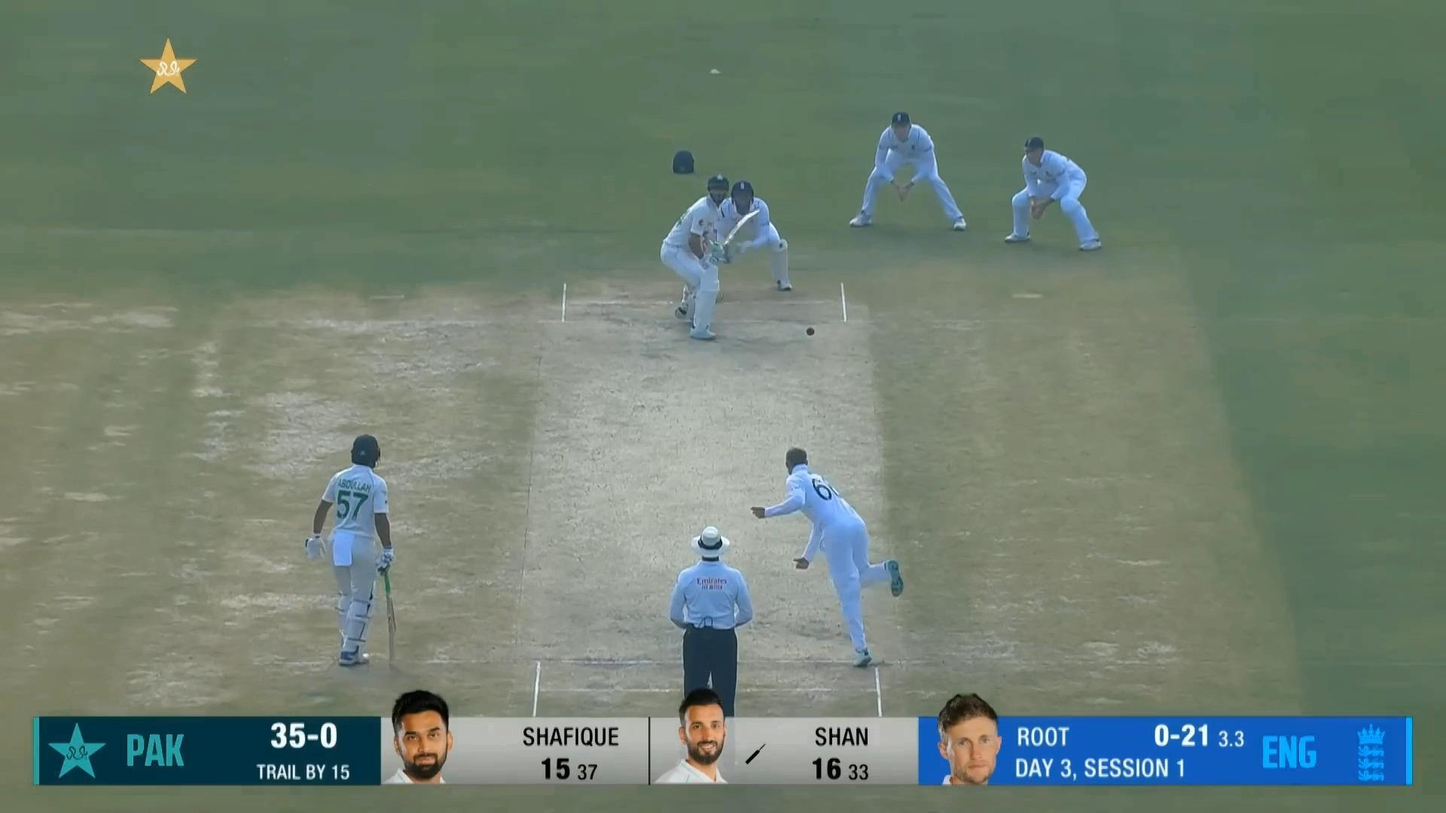BM 1: (659, 173, 762, 341)
BO: (750, 446, 904, 668)
